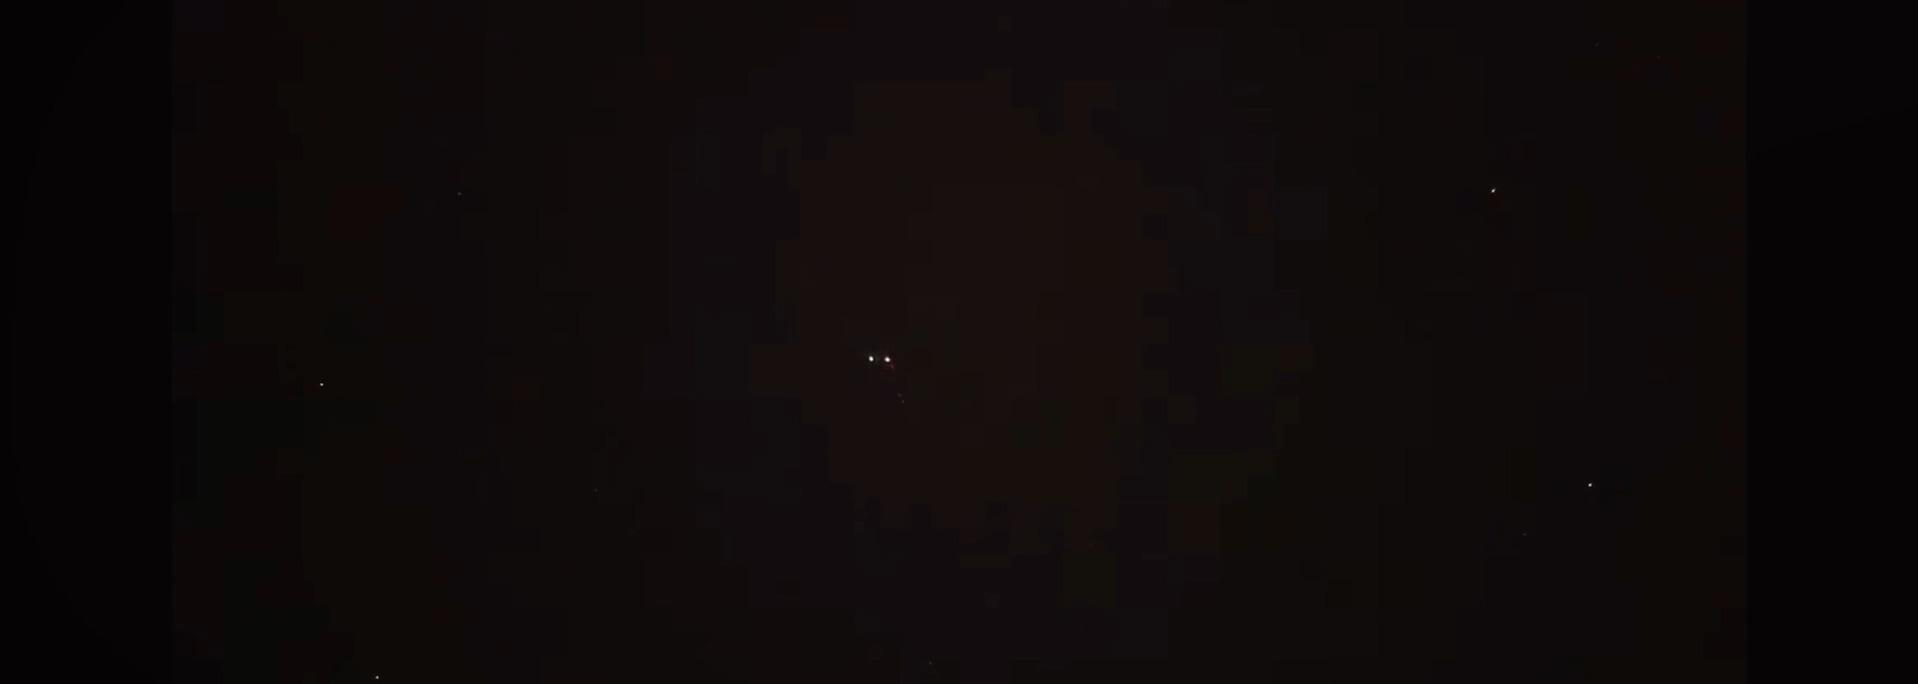Plane: (848, 343, 921, 378)
